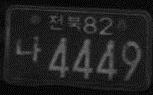2: (99, 16, 113, 36)
4: (94, 39, 118, 81), (71, 37, 94, 79), (48, 36, 70, 78)
8: (83, 15, 97, 35)
9: (121, 39, 142, 83)
나: (15, 33, 41, 62)
전북_O: (48, 13, 80, 32)
